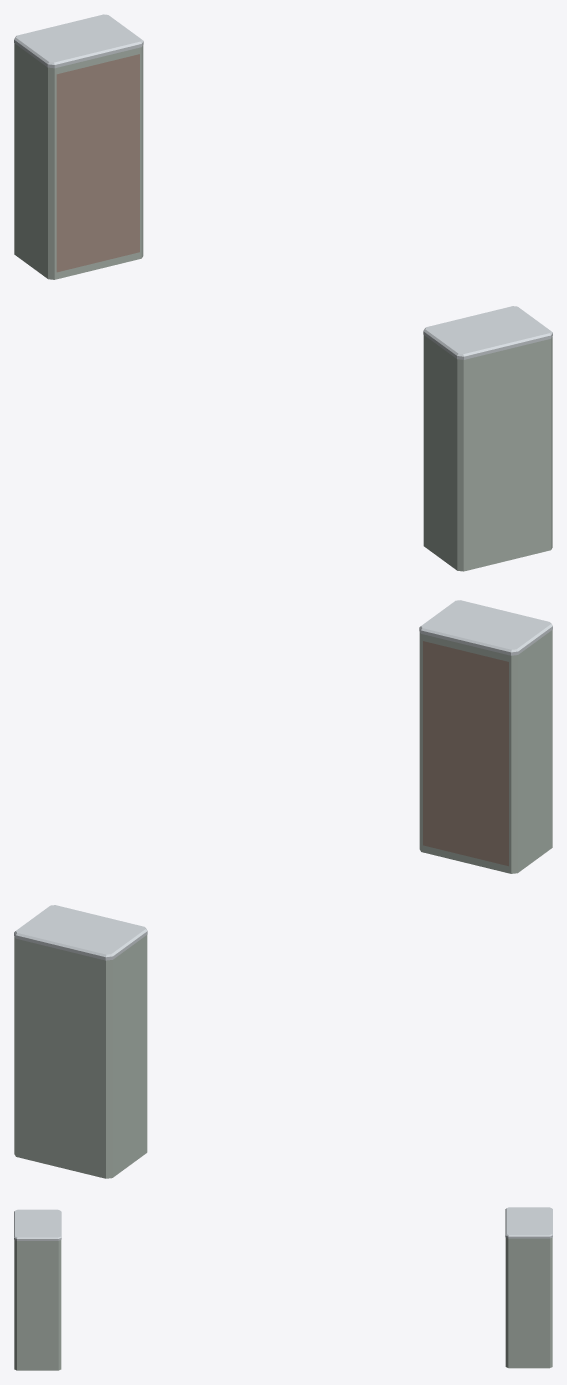
Rendered from chi-crown-fountain.glb.
3 renders of one model, top to bottom at view 1: azimuth 30°, elevation 25°; view 2: azimuth 150°, elevation 25°; view 3: azimuth 270°, elevation 25°, orthographic. The views are drawn at different scales.
Parts seen in each view (by area): view 1: Crown Fountain; view 2: Crown Fountain; view 3: Crown Fountain.
Part boxes in pixels (box(x1,y1,x2,y2)): Crown Fountain: box(14, 14, 552, 571); Crown Fountain: box(14, 600, 552, 1178); Crown Fountain: box(14, 1207, 552, 1370).
Bounding box in the file's own units: 7.64 × 15.2 × 55.94.
